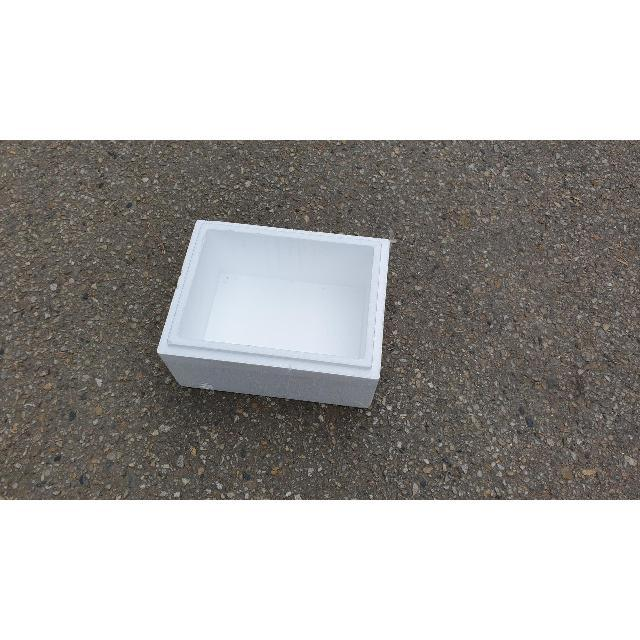Plastico descartable: (156, 221, 391, 410)
